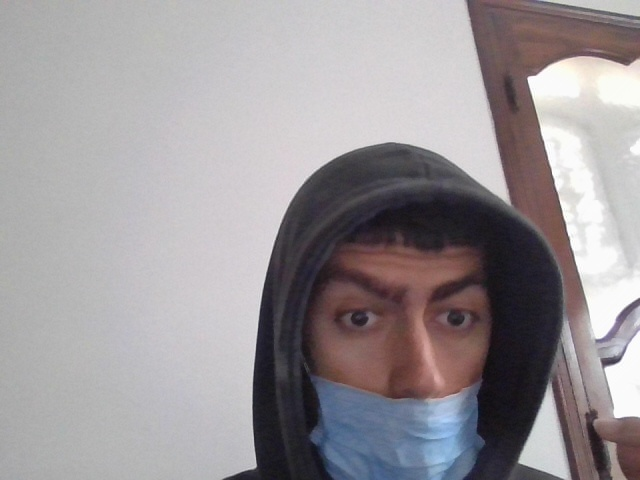mask_weared_incorrect: (303, 206, 499, 480)
